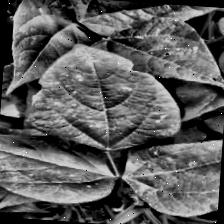Bean Rust: (18, 40, 186, 155), (86, 10, 224, 94), (121, 128, 223, 219), (0, 130, 115, 205), (51, 0, 224, 41)
